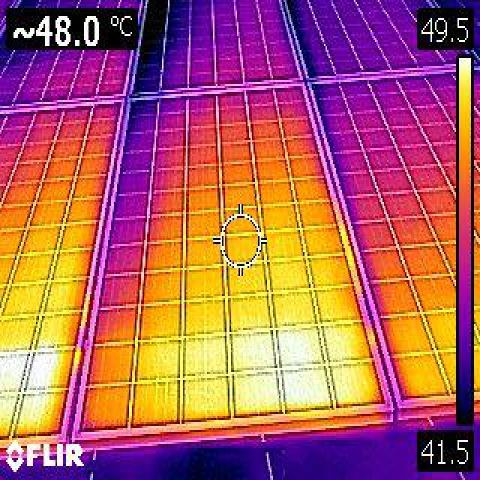fault: (240, 322, 326, 416), (0, 344, 61, 430)
